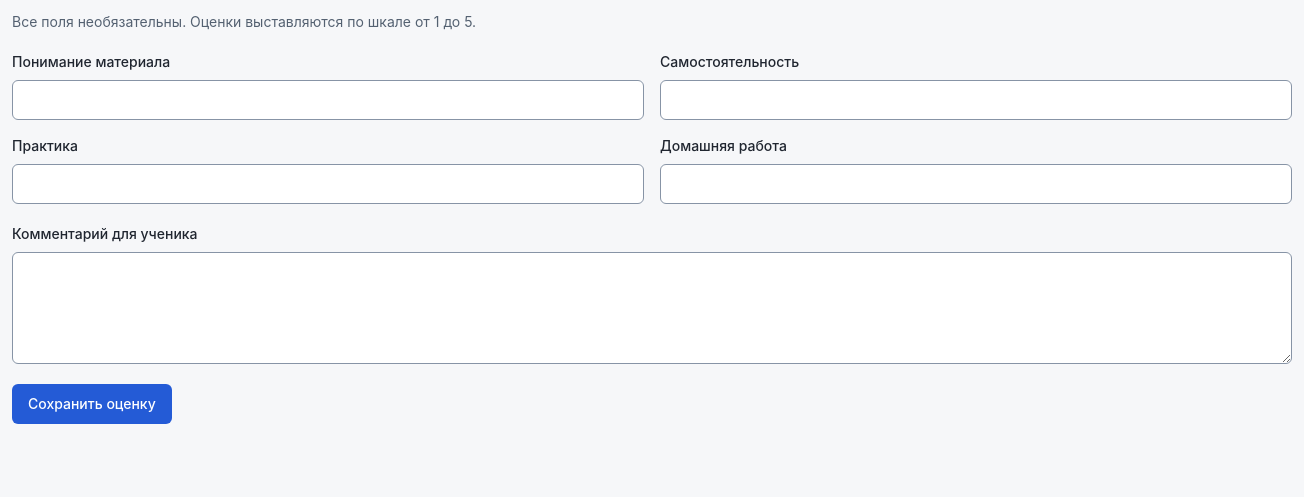
AssessmentForm › rejects non-integer and out-of-range scores before the request
Type "1.5" into the number field labelled "Понимание материала".
click(328, 100); type("1.5")  # box [12,80,644,120]
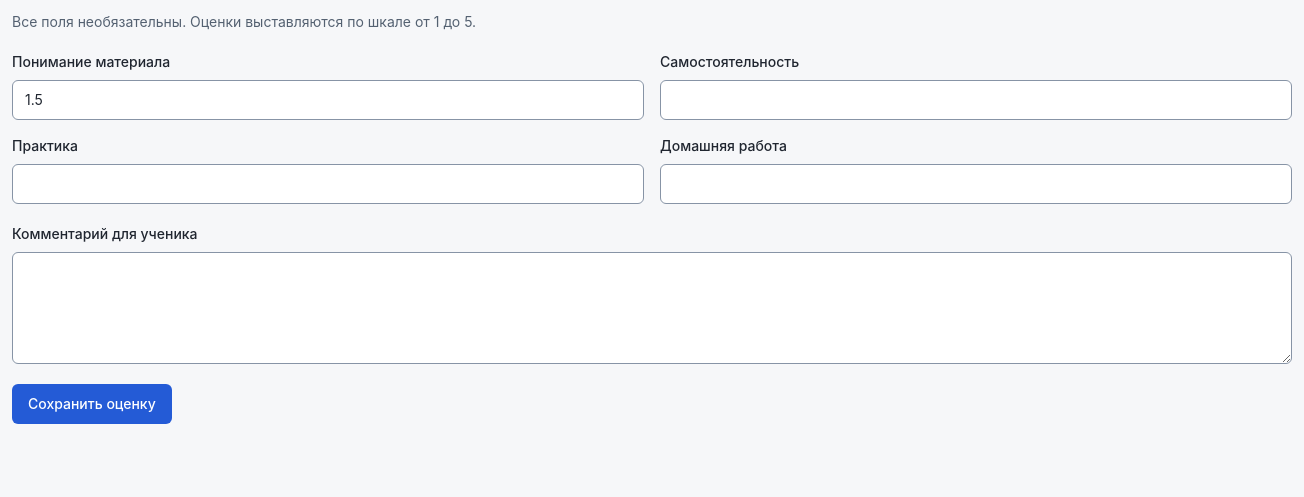
Type "6" into the number field labelled "Практика".
click(328, 184); type("6")  # box [12,164,644,204]
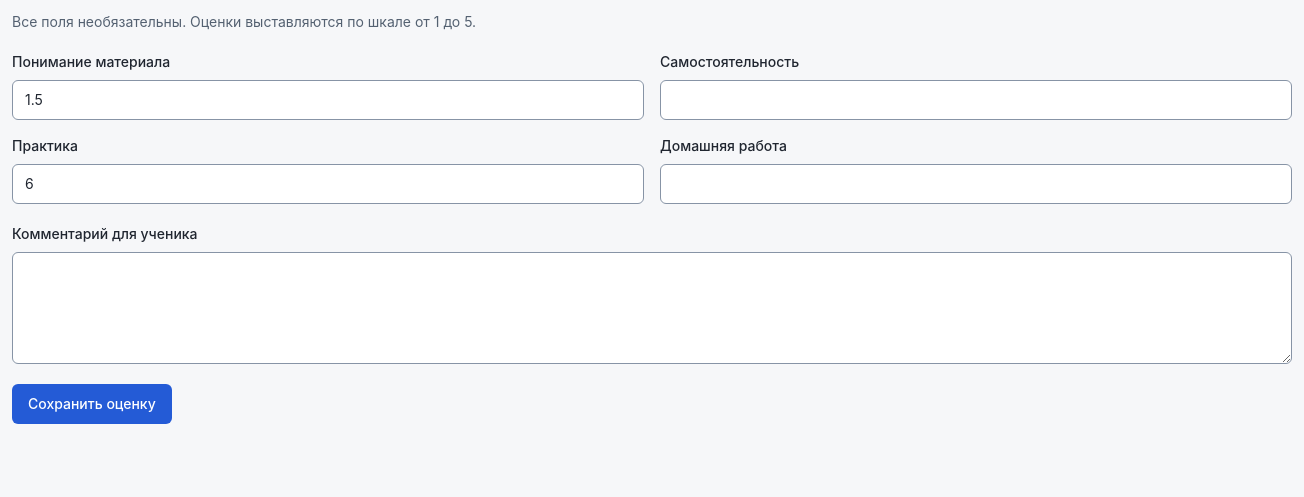
Click the button "Сохранить оценку".
click(92, 404)  # box [12,384,172,424]
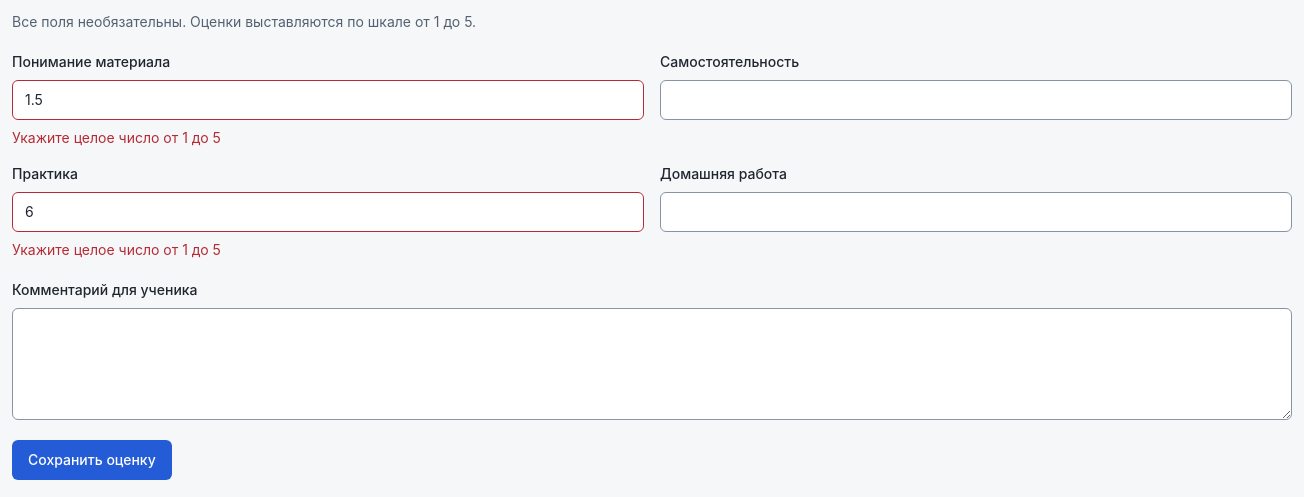
Now the text "Укажите целое число от 1 до 5" is shown 2 times, box [12,129,221,146]; [12,241,221,258]
